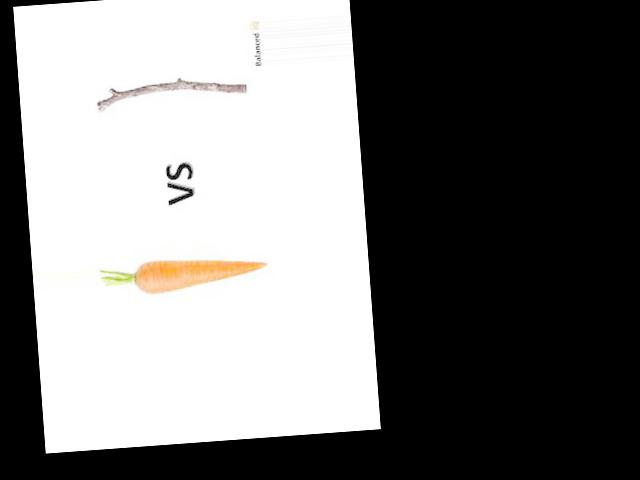carrot: (129, 243, 272, 301)
